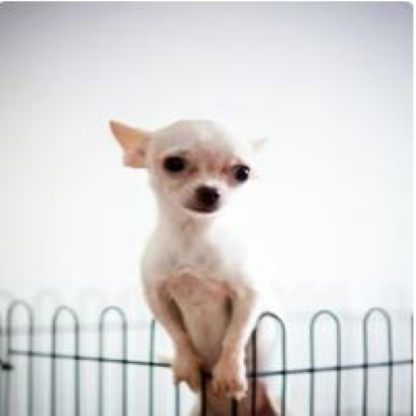chihuahua: (108, 117, 283, 416)
